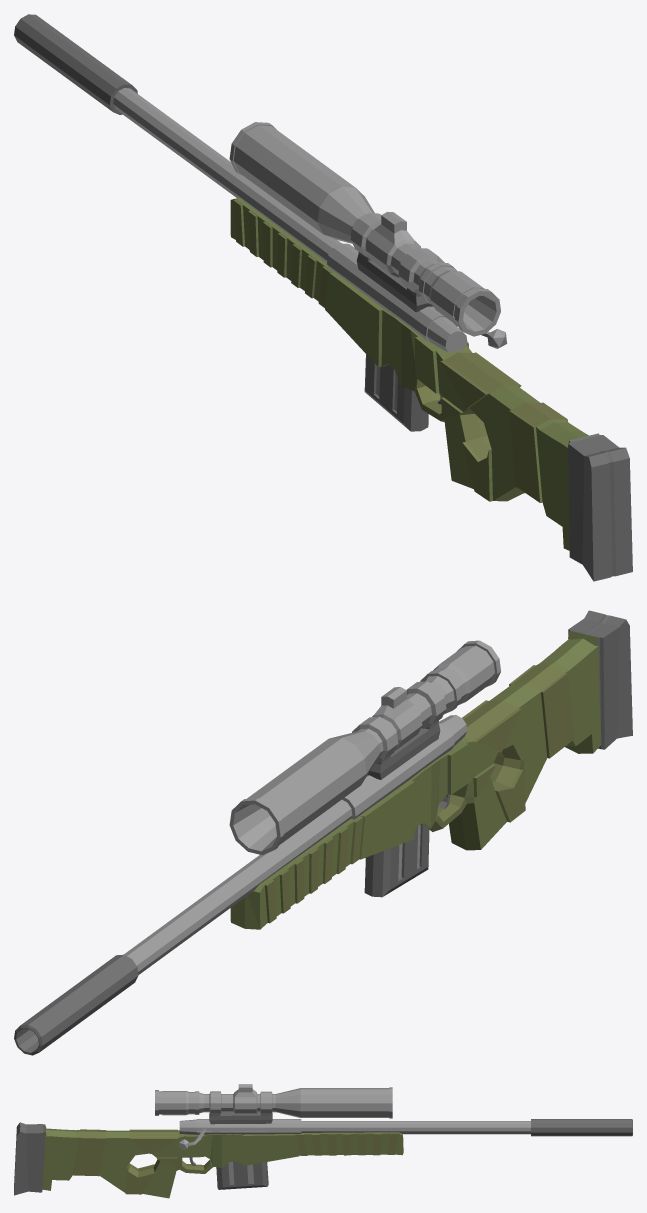
Rendered from Awp.fbx.
3 renders of one model, top to bottom at view 1: azimuth 30°, elevation 25°; view 2: azimuth 150°, elevation 25°; view 3: azimuth 270°, elevation 25°, orthographic. The views are drawn at different scales.
Parts seen in each view (by area): view 1: Awp; view 2: Awp; view 3: Awp.
Boxes of the visible parts, x1,y1,x2,y2 form: Awp: [14, 14, 632, 581]; Awp: [14, 610, 632, 1055]; Awp: [14, 1084, 632, 1198].
Bounding box in the file's own units: 135 × 345 × 1731.
